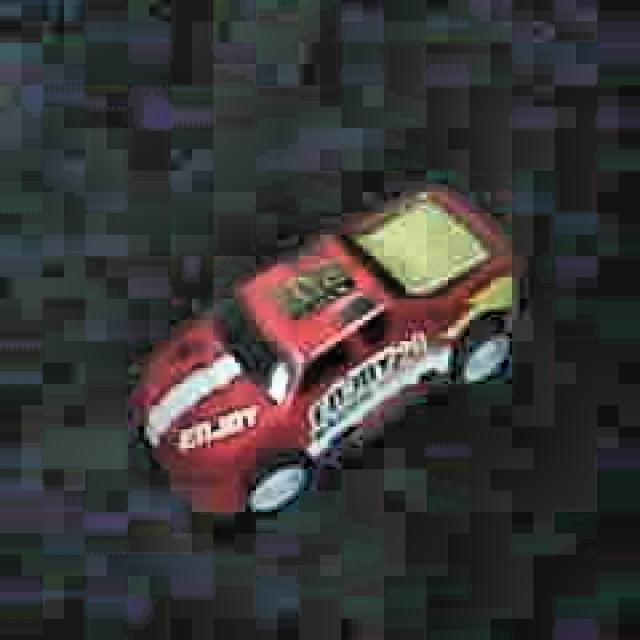car: (126, 182, 518, 524)
